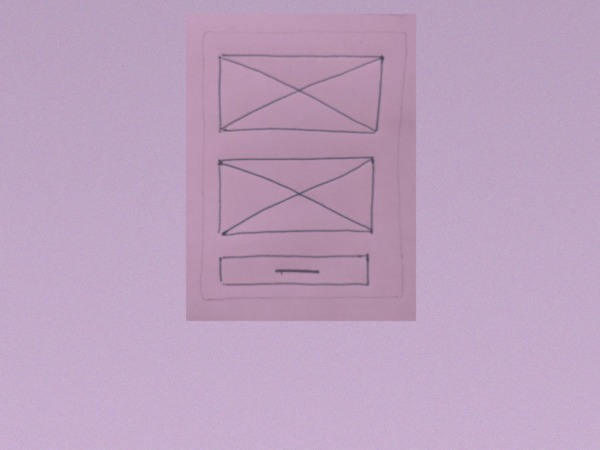button: (215, 252, 372, 292)
image: (214, 50, 386, 142), (211, 153, 379, 242)
